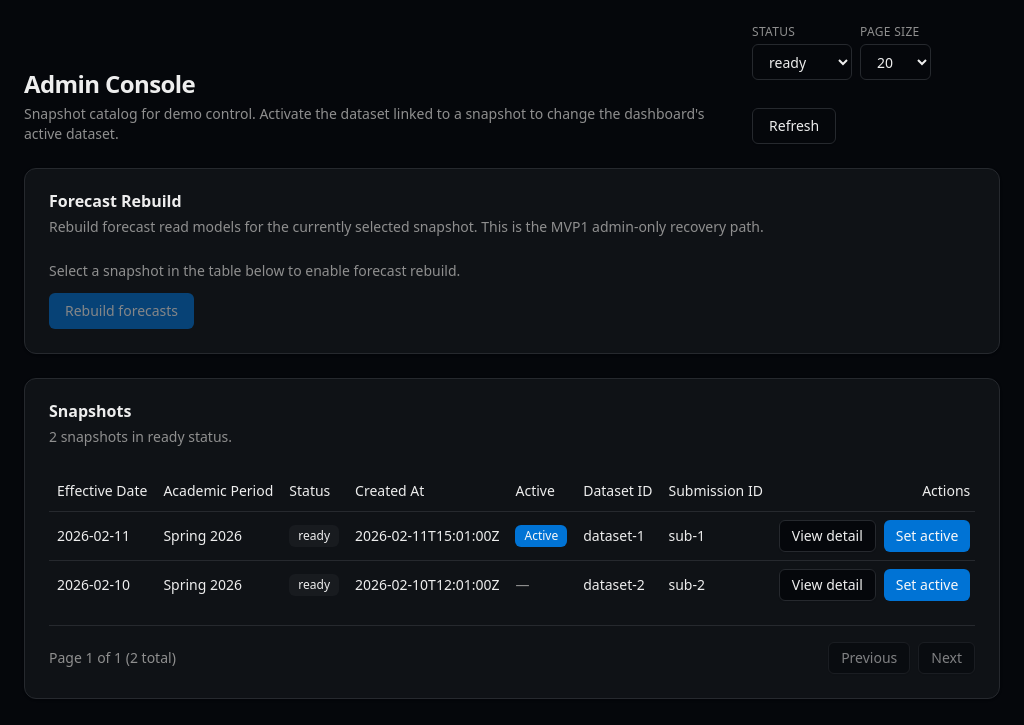
Test case: Admin Console route › activates a snapshot dataset and updates the active indicator
Expected: the row with test id "snapshot-row-snap-ready-inactive" is shown, [49,560,975,608]
Click the button with aria-label "Set active snapshot snap-ready-inactive" at [927, 584], box [884,568,970,600]
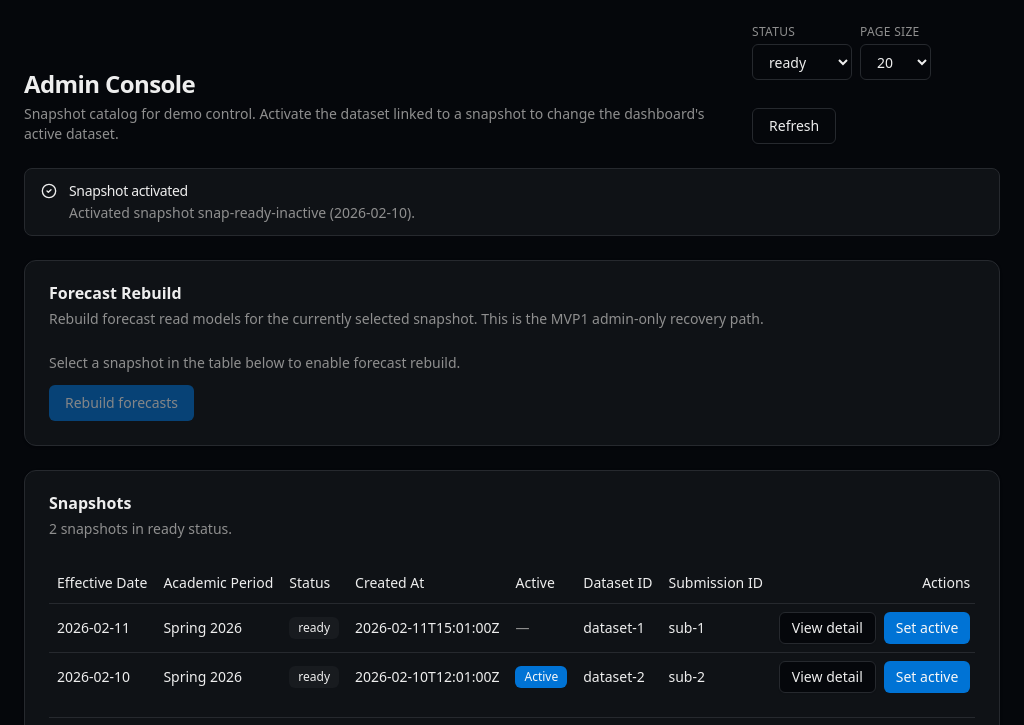
Expected: the text "Active" is shown, [516,666,567,688]
Now the text "Snapshot activated" is shown, box [69,181,188,200]
Now the text "Activated snapshot snap-ready-inactive (2026-02-10)." is shown, box [69,203,415,222]
